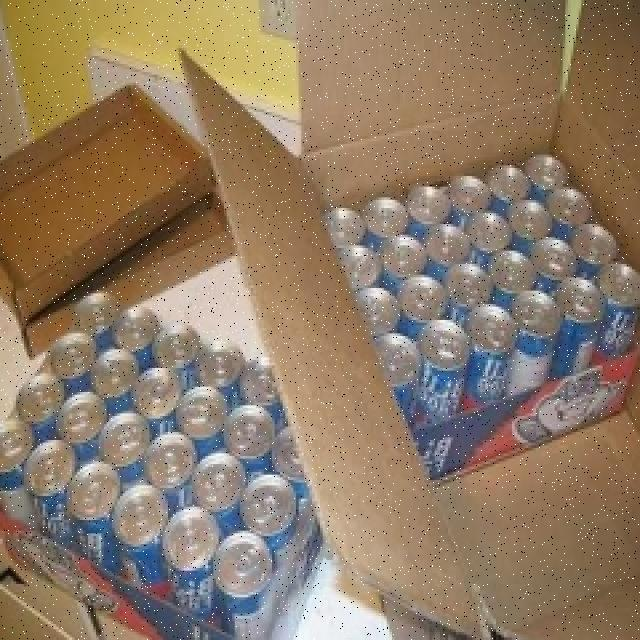box: (248, 0, 640, 640), (0, 557, 115, 640)
